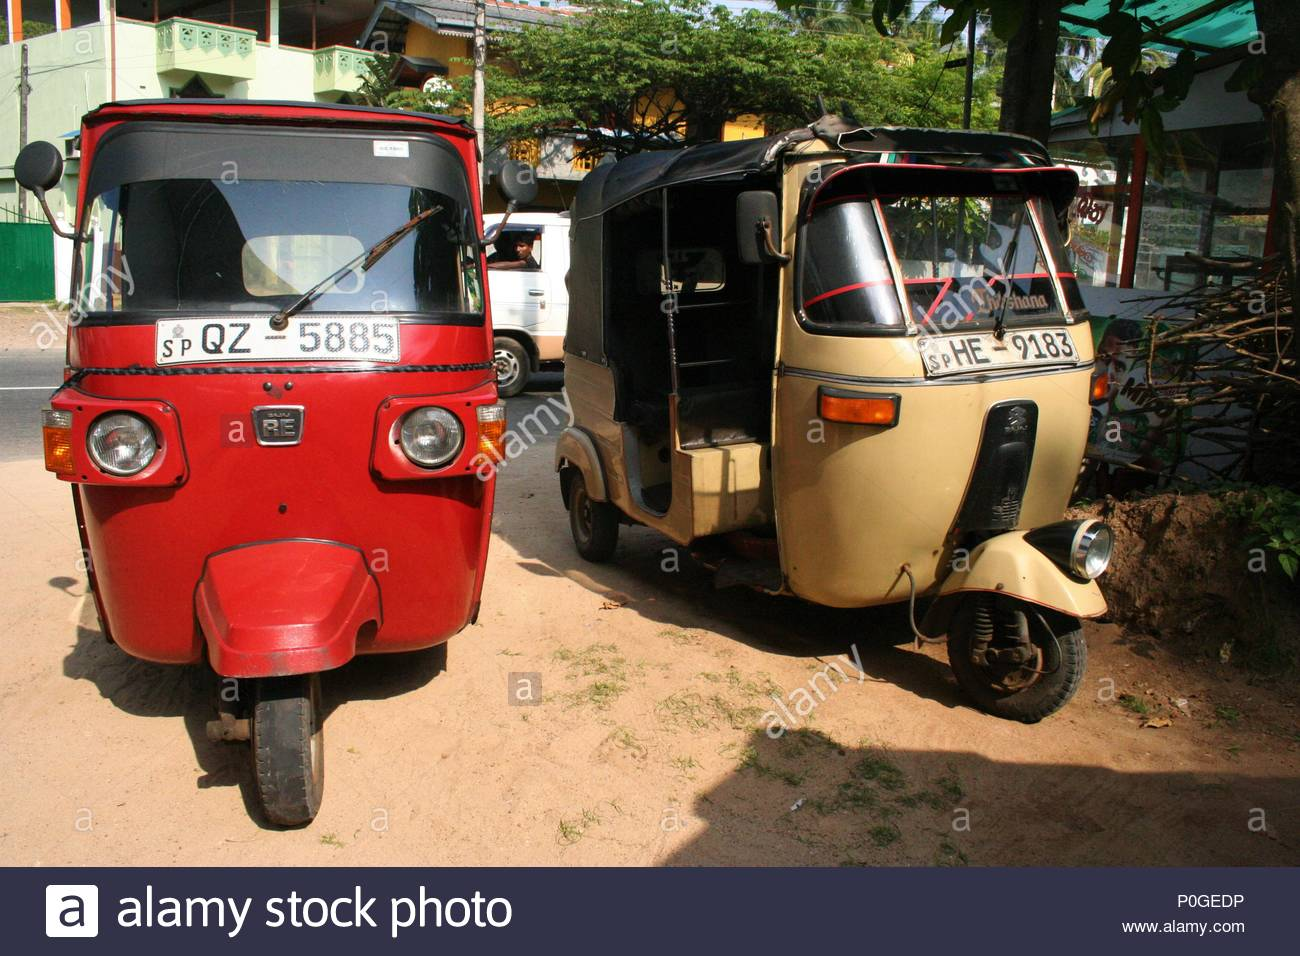tuk tuk: (555, 126, 1130, 725), (42, 93, 506, 836)
